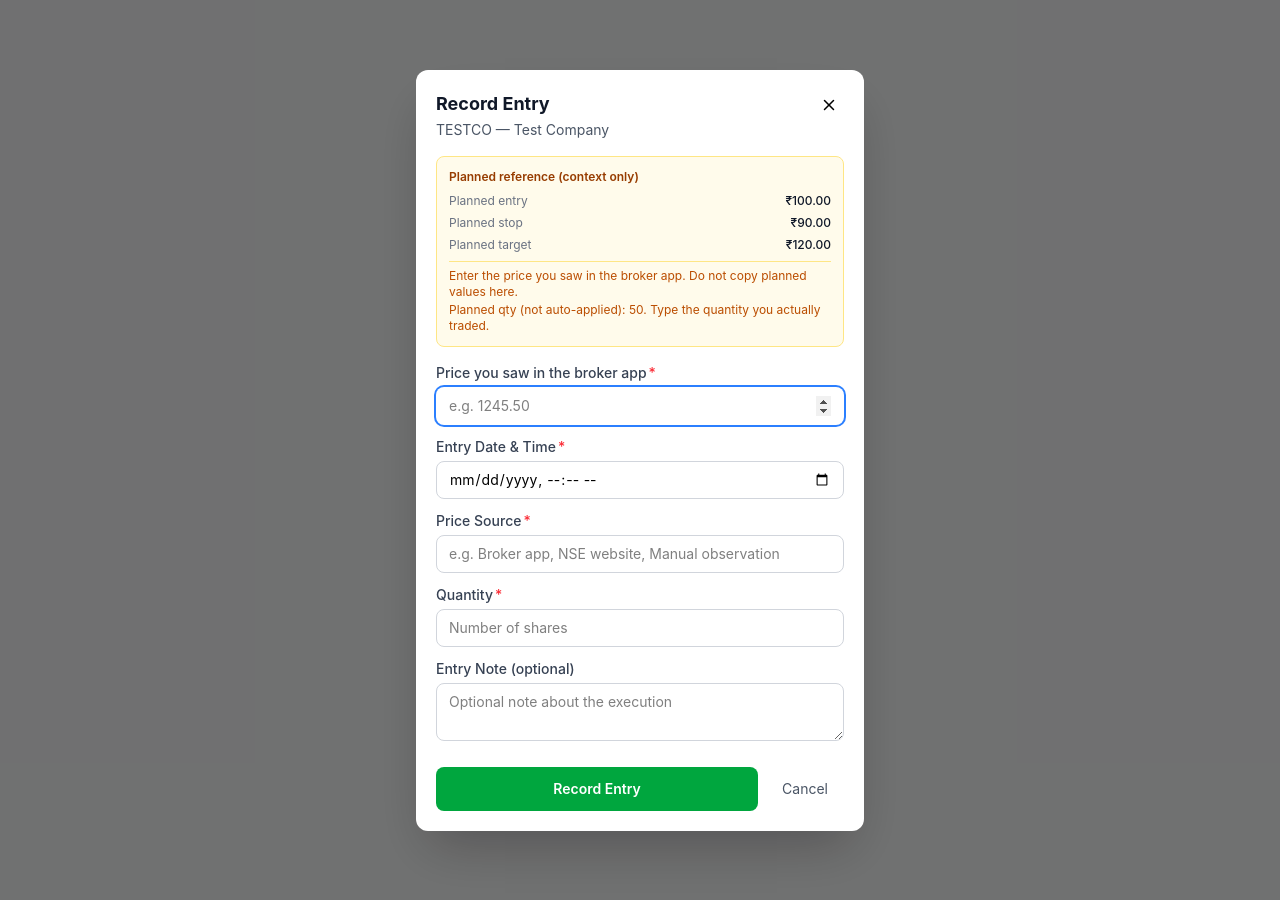
Test: OpenTradeModal › requires entry date before submit
Type "101.25" into the number field labelled "Price you saw in the broker app*" at coordinates (640, 406), box [436,386,844,424]
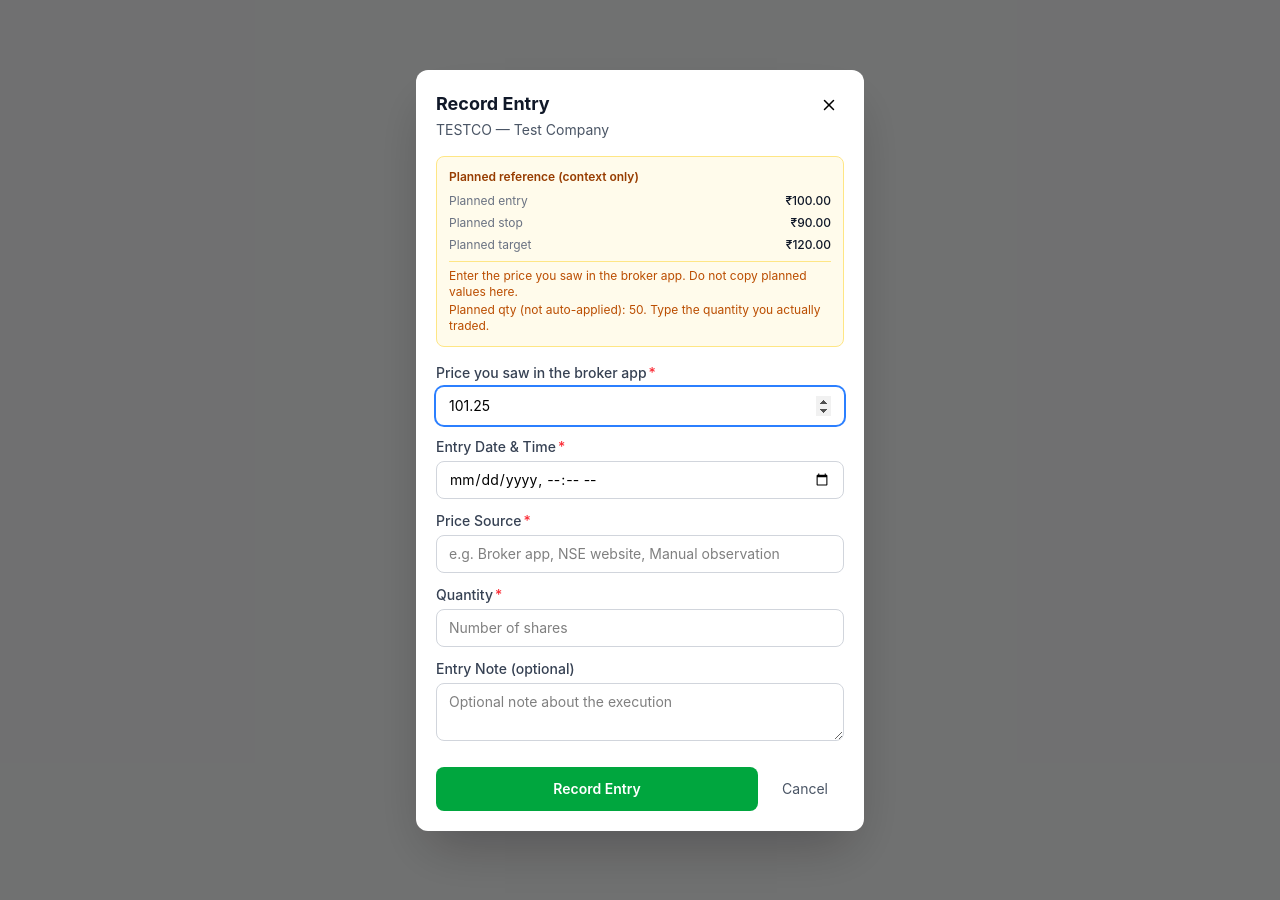
Type "Manual observation" into the field labelled "Price Source*" at coordinates (640, 554), box [436,534,844,572]
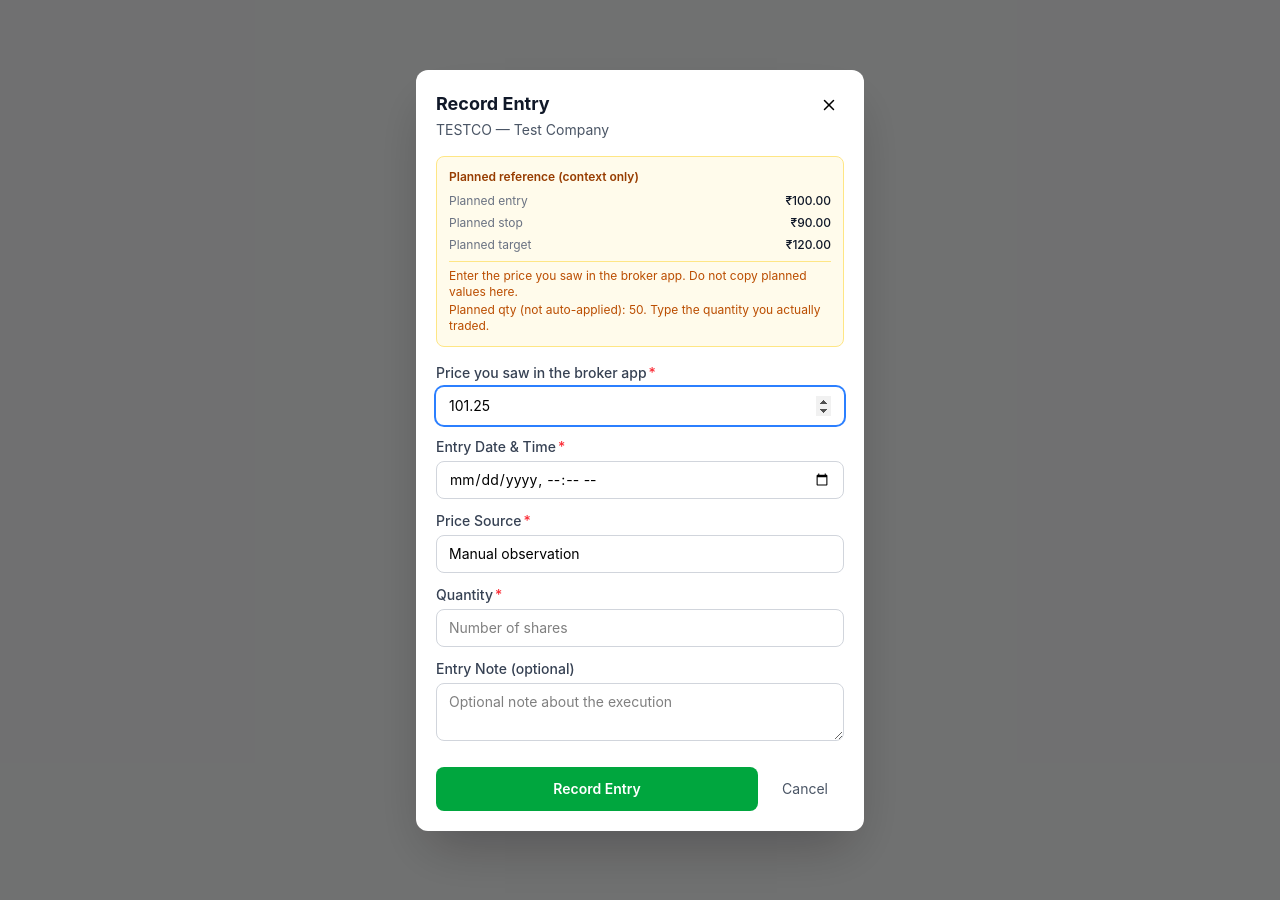
Click the button with id "open-trade-submit" at coordinates (597, 788), box [436,766,758,810]
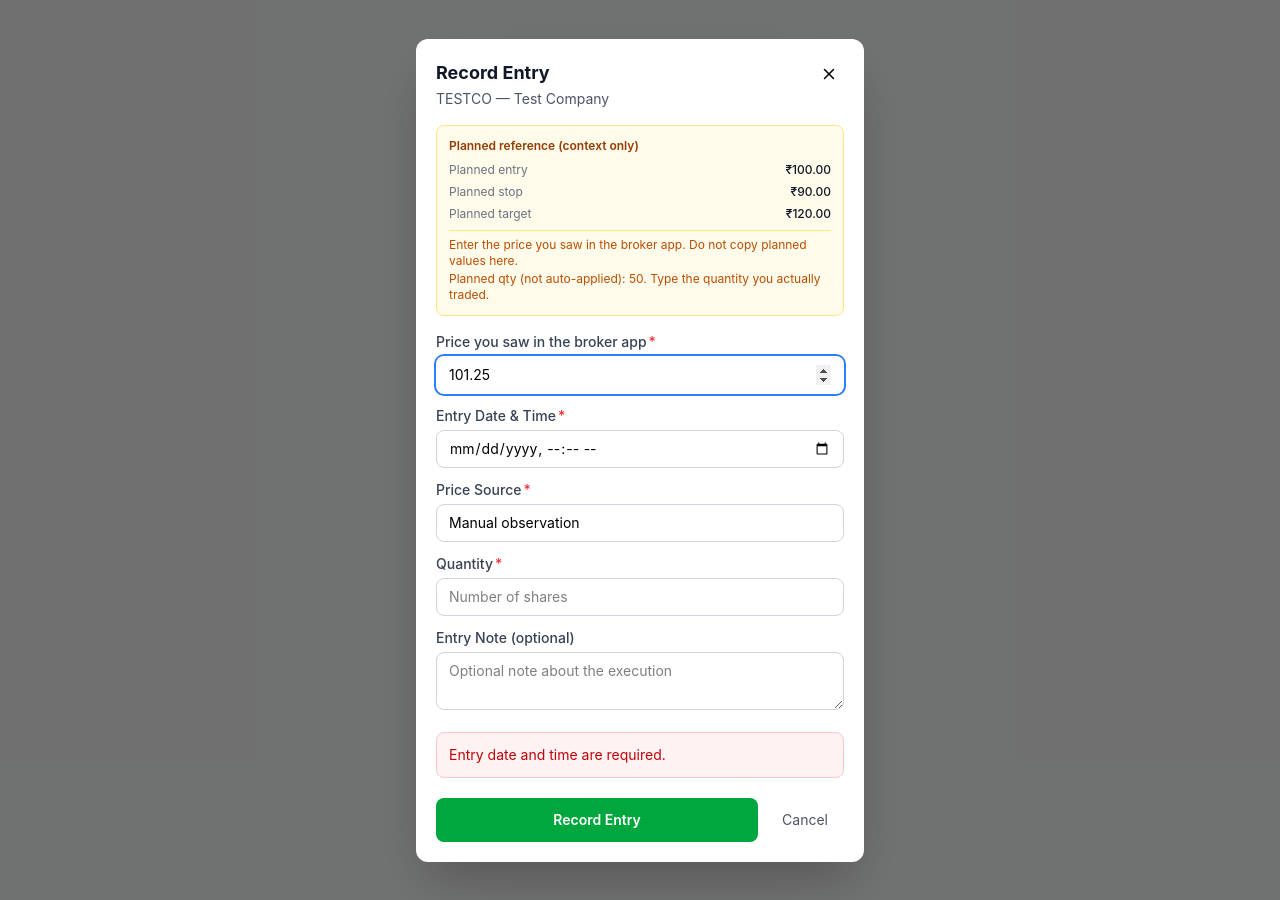
Expected: the text "Entry date and time are required." is shown, [436,732,844,778]
